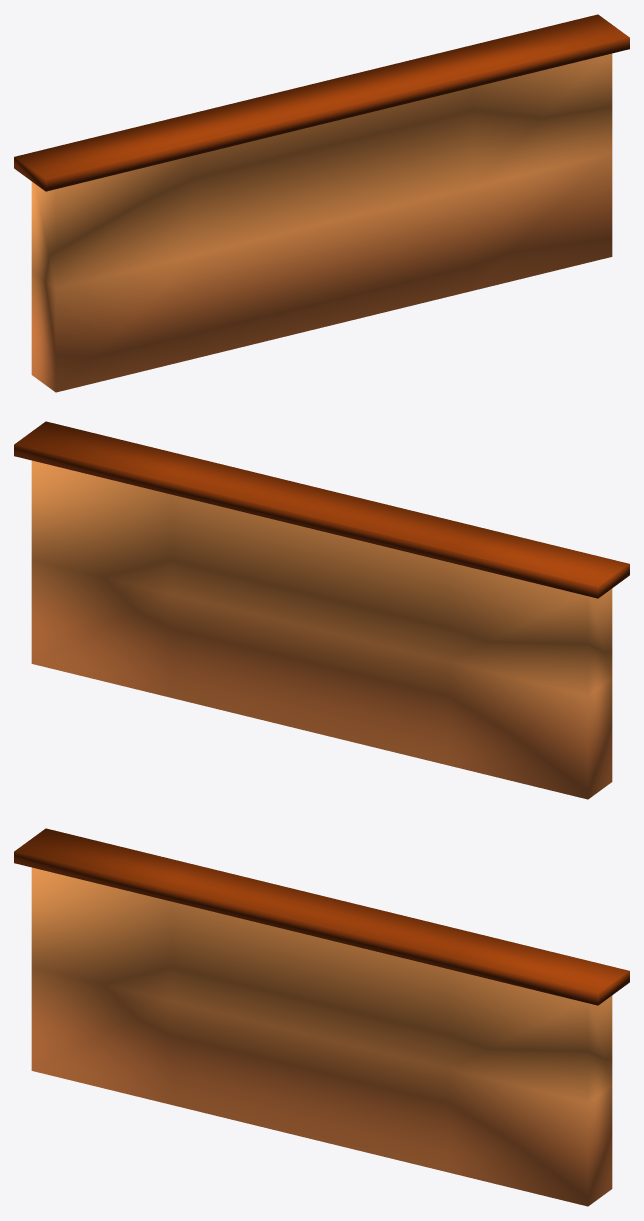
The model's file is Muro.fbx.
The picture shows the model from 3 angles, top to bottom: view 1: azimuth 30°, elevation 25°; view 2: azimuth 150°, elevation 25°; view 3: azimuth 330°, elevation 25°; orthographic projection.
Parts seen in each view (by area): view 1: Muro; view 2: Muro; view 3: Muro.
Part boxes in pixels (<box>): Muro: <box>14,14,629,392</box>; Muro: <box>14,421,629,799</box>; Muro: <box>14,828,629,1206</box>.
Bounding box in the file's own units: 504 × 180 × 47.58.
Materials: 1 (1 with a texture image).
